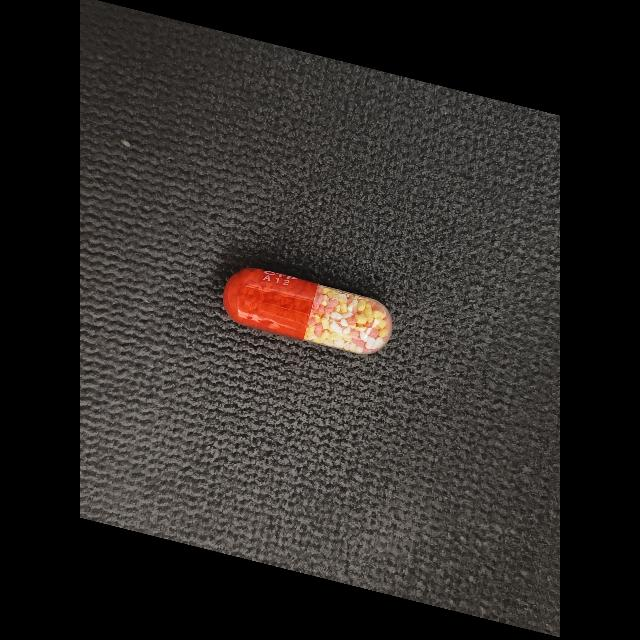Intact Capsule: (223, 268, 392, 354)
